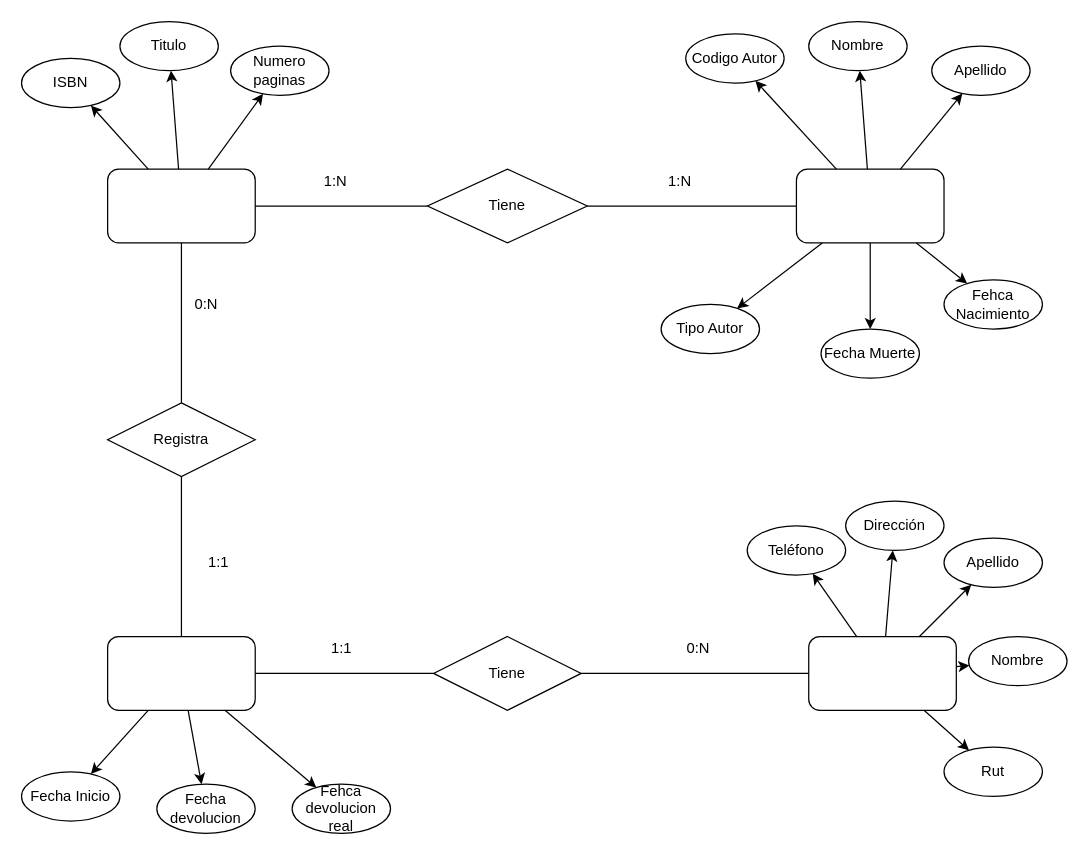
Some shapes in this 1089 by 856 pixel diagram are drawn without their labels. Here are the shapes that lost their labels. From the top down, the centre of each, then its label:
At (x=180, y=205): "Libro".
At (x=869, y=205): "Autor".
At (x=180, y=672): "Prestamo".
At (x=881, y=672): "Socio".
